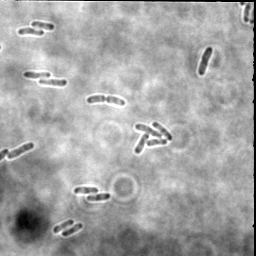Dividing: (85, 93, 126, 107), (196, 46, 213, 76)
Microcolony: (133, 120, 174, 155)
Rod: (5, 141, 35, 161), (52, 218, 74, 235), (61, 222, 84, 237), (38, 77, 67, 88), (21, 70, 51, 80), (85, 192, 111, 203), (17, 27, 45, 37), (30, 20, 55, 31), (73, 186, 99, 195)
